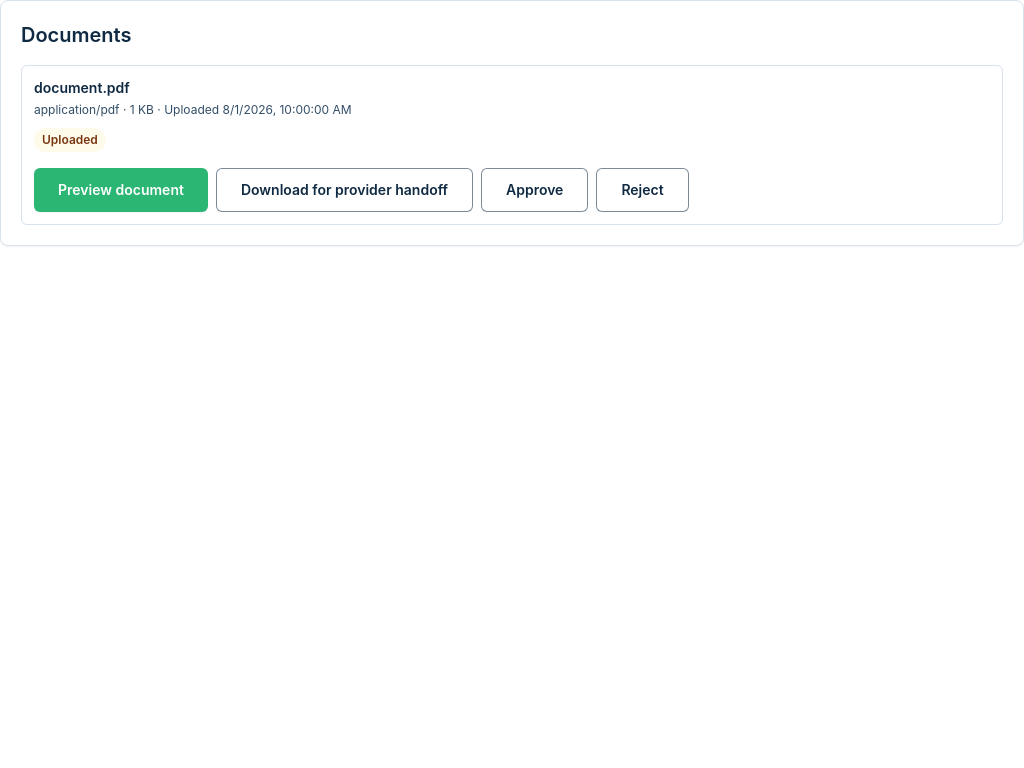
Test: AdminAppointmentDocumentsCard › requires explicit confirmation before using the dedicated provider-handoff route
The width and height of the screenshot is (1024, 768).
Click the button "Download for provider handoff" at (344, 190), box [216, 168, 473, 212]
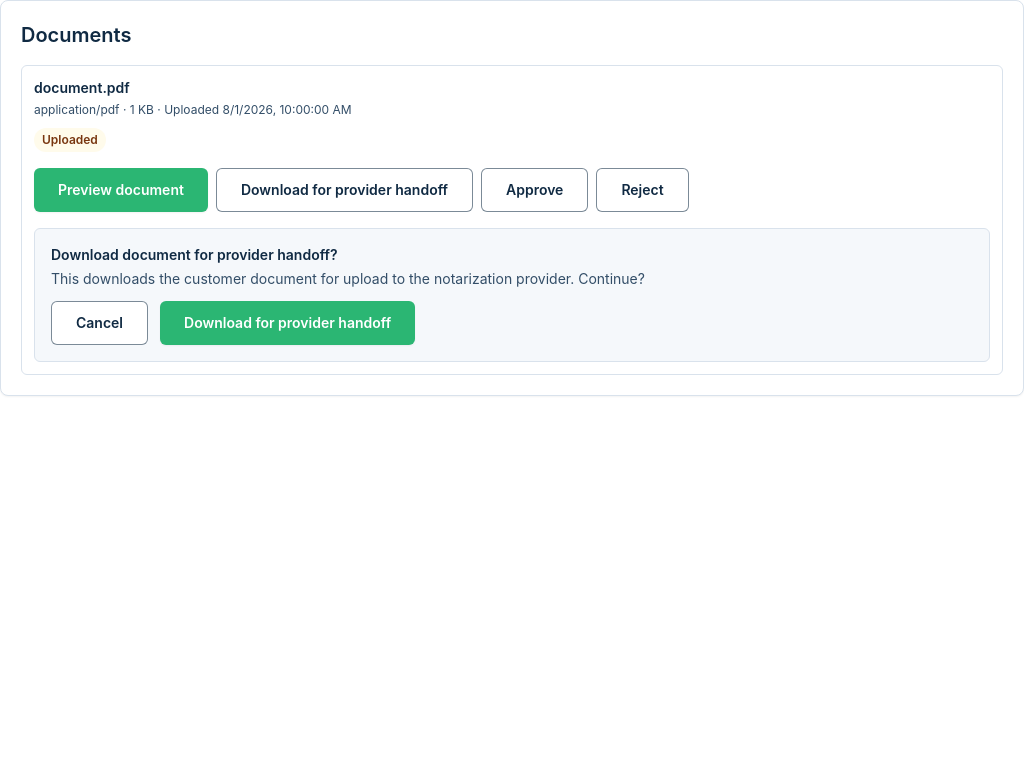
Check: the dialog "Download document for provider handoff?" shows "This downloads the customer document for upload to the notarization provider. Continue?", box [51, 270, 645, 287]
Click the button "Cancel" at (100, 323), box [51, 301, 148, 345]
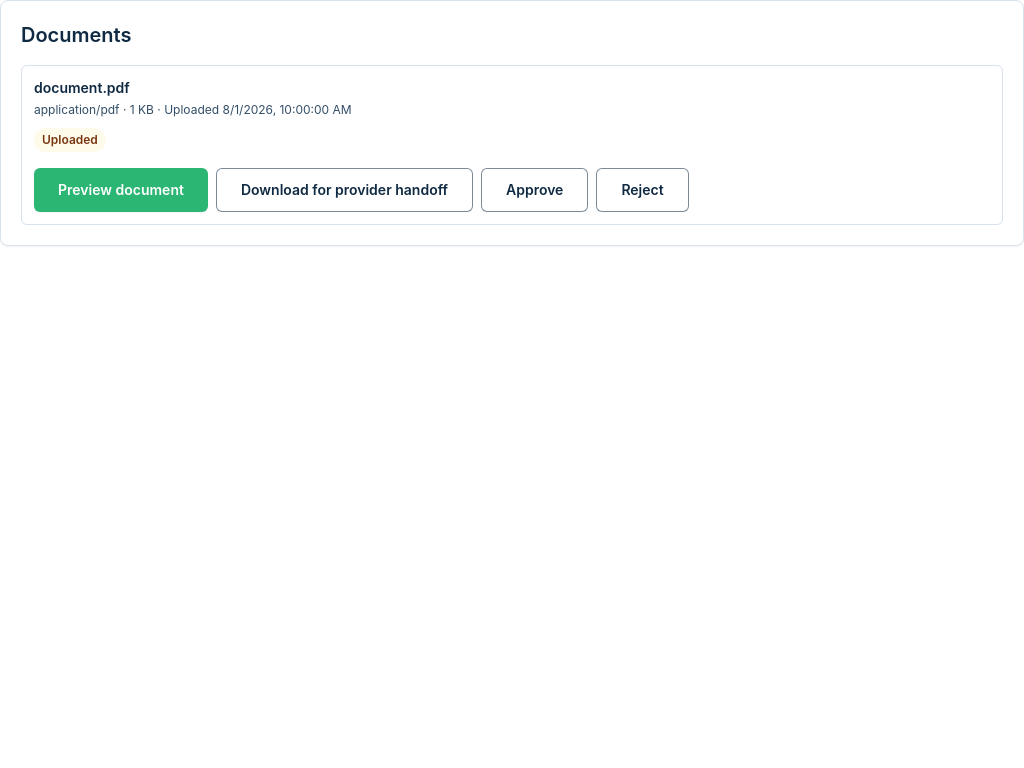
Check: the text "Download document for provider handoff?" is gone
